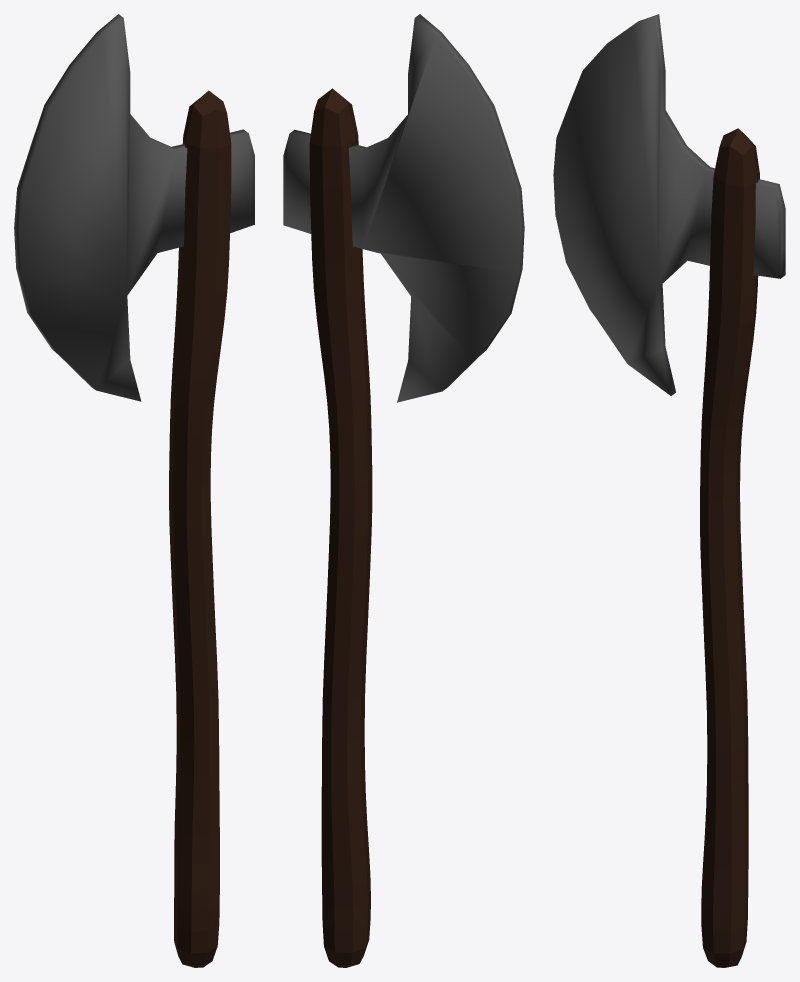
Rendered from axe.fbx.
3 views of the same model, side by side, from view 1: azimuth 30°, elevation 25°; view 2: azimuth 150°, elevation 25°; view 3: azimuth 330°, elevation 25° (orthographic). The views are drawn at different scales.
Visible parts, largest first — view 1: Plane, Cube; view 2: Plane, Cube; view 3: Plane, Cube.
Boxes of the visible parts, x1,y1,x2,y2 form: Plane: [14, 14, 254, 401]; Cube: [169, 90, 231, 967]; Plane: [283, 14, 524, 402]; Cube: [309, 88, 372, 967]; Plane: [553, 14, 785, 395]; Cube: [700, 128, 759, 967].
Bounding box in the file's own units: 117 × 458 × 21.72.
